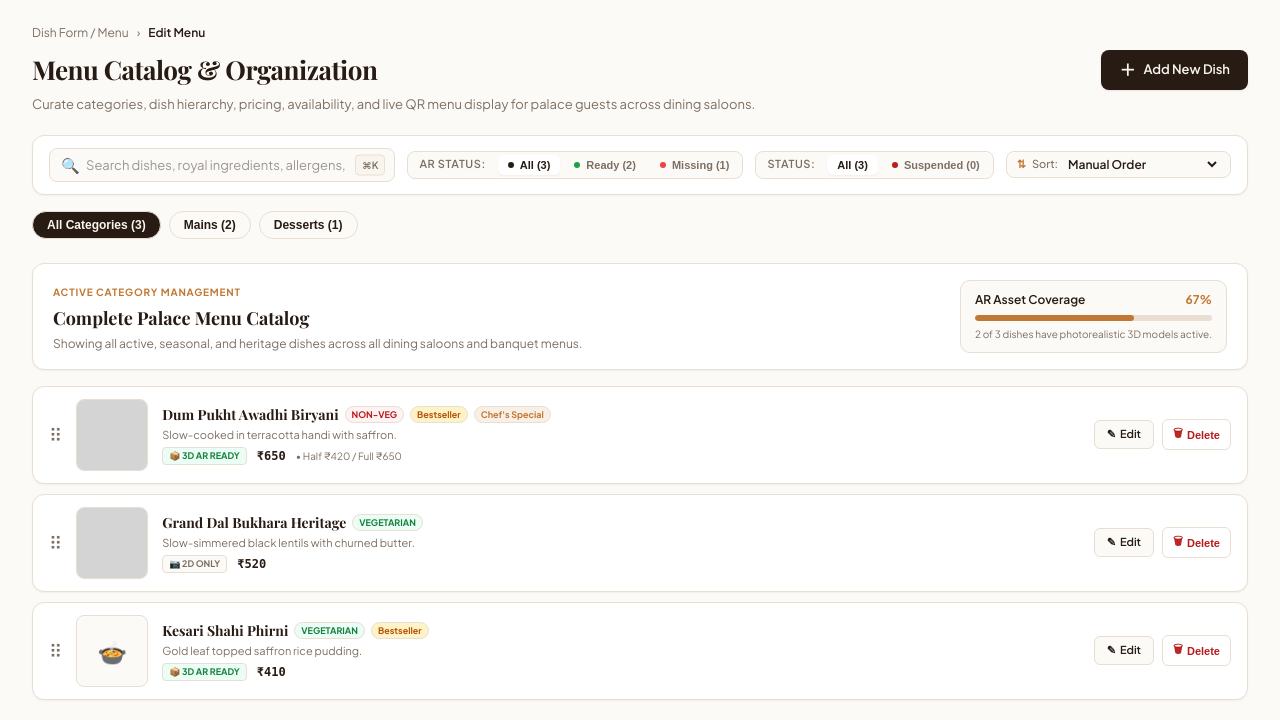
Test: MenuCatalog Component Suite › Filters dishes by category selection
Expected: the heading "Dum Pukht Awadhi Biryani" is shown, [162,404,339,425]
Click the button "Desserts (1)": (308, 224) [259,210,358,238]
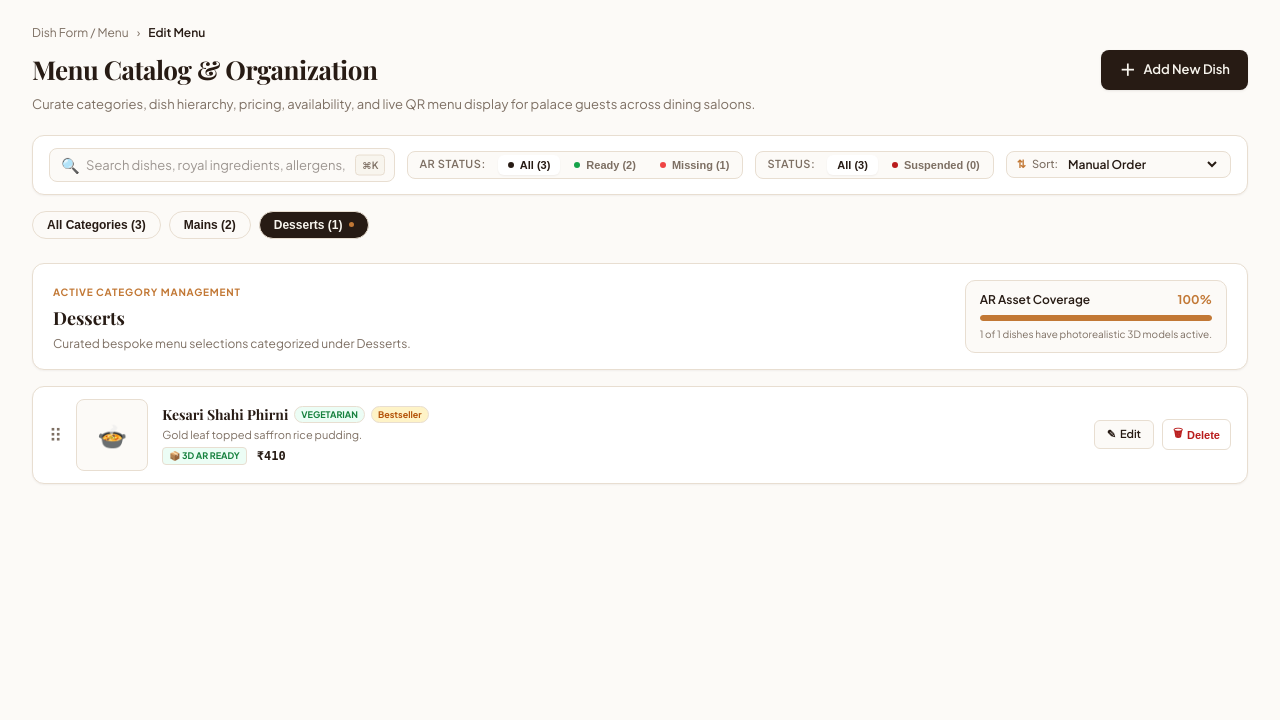
Expected: the heading "Kesari Shahi Phirni" is shown, [162,404,288,425]
Expected: the heading "Dum Pukht Awadhi Biryani" is gone
